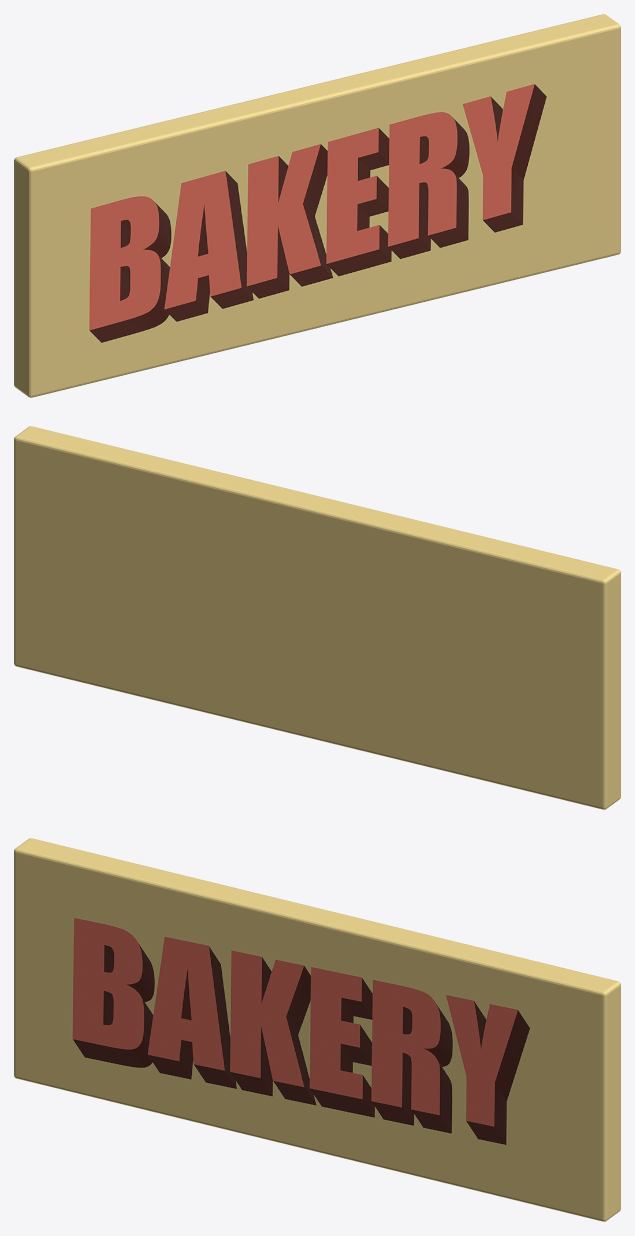
Rendered from bakery.fbx.
3 renders of one model, top to bottom at view 1: azimuth 30°, elevation 25°; view 2: azimuth 150°, elevation 25°; view 3: azimuth 330°, elevation 25°, orthographic.
Parts seen in each view (by area): view 1: bakery; view 2: bakery; view 3: bakery.
Part boxes in pixels (x1,y1,x2,y2): bakery: [14, 14, 620, 397]; bakery: [14, 426, 620, 809]; bakery: [14, 838, 620, 1221].
Bounding box in the file's own units: 102 × 38 × 5.
Materials: 1 (1 with a texture image).
